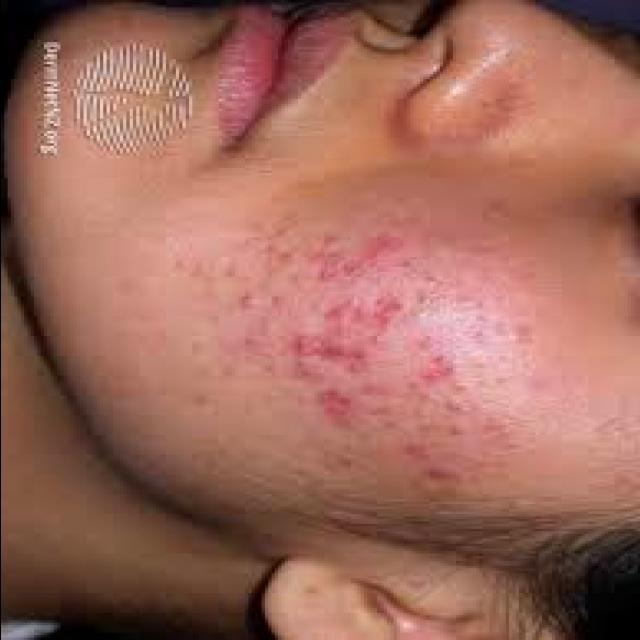Acne: (317, 340, 373, 374), (313, 390, 357, 430), (320, 298, 371, 328), (370, 292, 408, 332), (362, 234, 404, 264), (421, 354, 457, 386)
